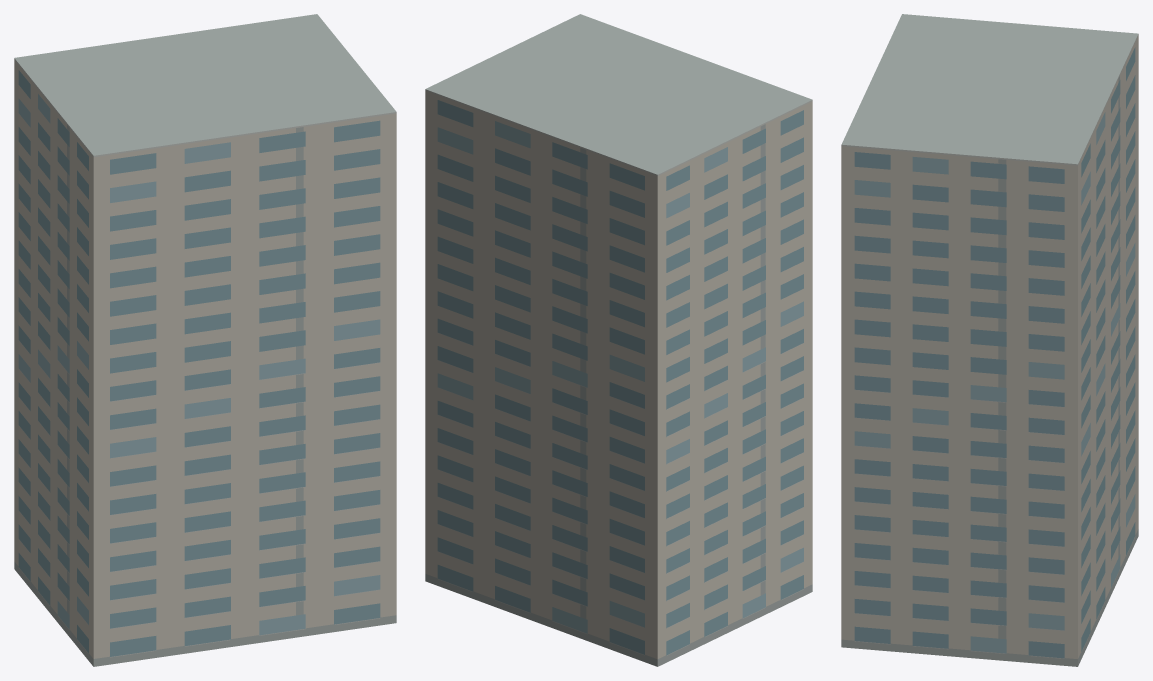
File: residential-bee55145-91dd-4fe9-8632-ba9f8bd22d38.glb
The picture shows the model from 3 angles, left to right: view 1: azimuth 30°, elevation 25°; view 2: azimuth 150°, elevation 25°; view 3: azimuth 270°, elevation 25°; orthographic projection. The views are drawn at different scales.
Parts seen in each view (by area): view 1: residential-bee55145-91dd-4fe9-8632-ba9f8bd22d38.tmp; view 2: residential-bee55145-91dd-4fe9-8632-ba9f8bd22d38.tmp; view 3: residential-bee55145-91dd-4fe9-8632-ba9f8bd22d38.tmp.
Part boxes in pixels (box(x1,y1,x2,y2)): residential-bee55145-91dd-4fe9-8632-ba9f8bd22d38.tmp: box(14, 14, 396, 666); residential-bee55145-91dd-4fe9-8632-ba9f8bd22d38.tmp: box(425, 14, 812, 666); residential-bee55145-91dd-4fe9-8632-ba9f8bd22d38.tmp: box(841, 14, 1138, 666).
Bounding box in the file's own units: 53.22 × 83 × 44.47.
